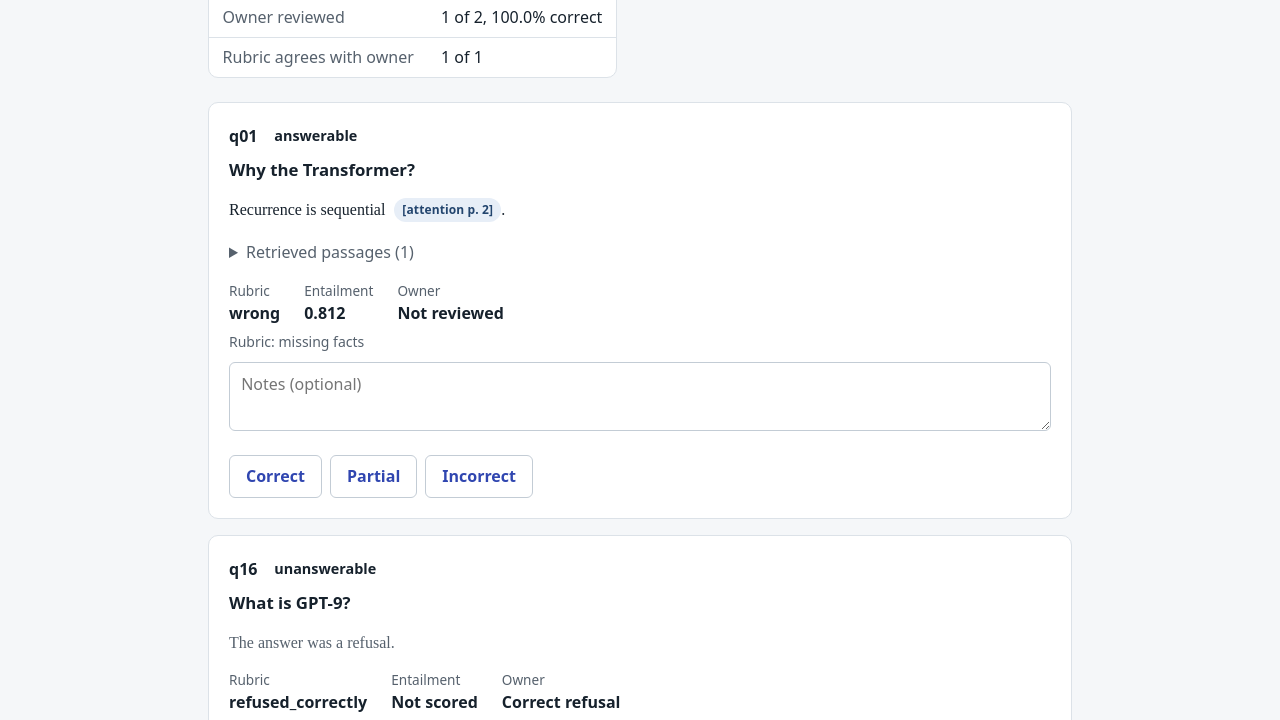
Test case: one click records the owner's grade with notes
This screenshot has width=1280, height=720.
(page scrolled)
Type "facts are there" into the text box named "Notes for q01" at point(640, 397), box x1=229 y1=362 x2=1051 y2=431
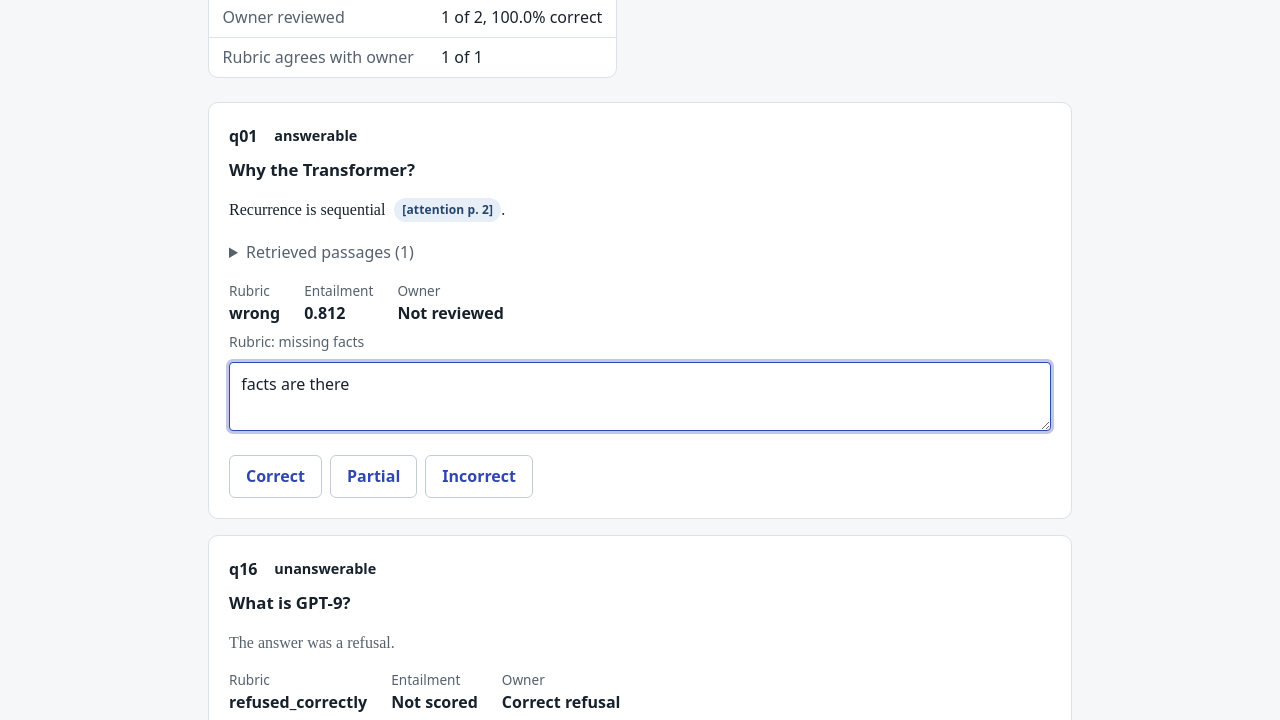
Click the button "Correct" at point(275, 477), box x1=229 y1=455 x2=322 y2=498
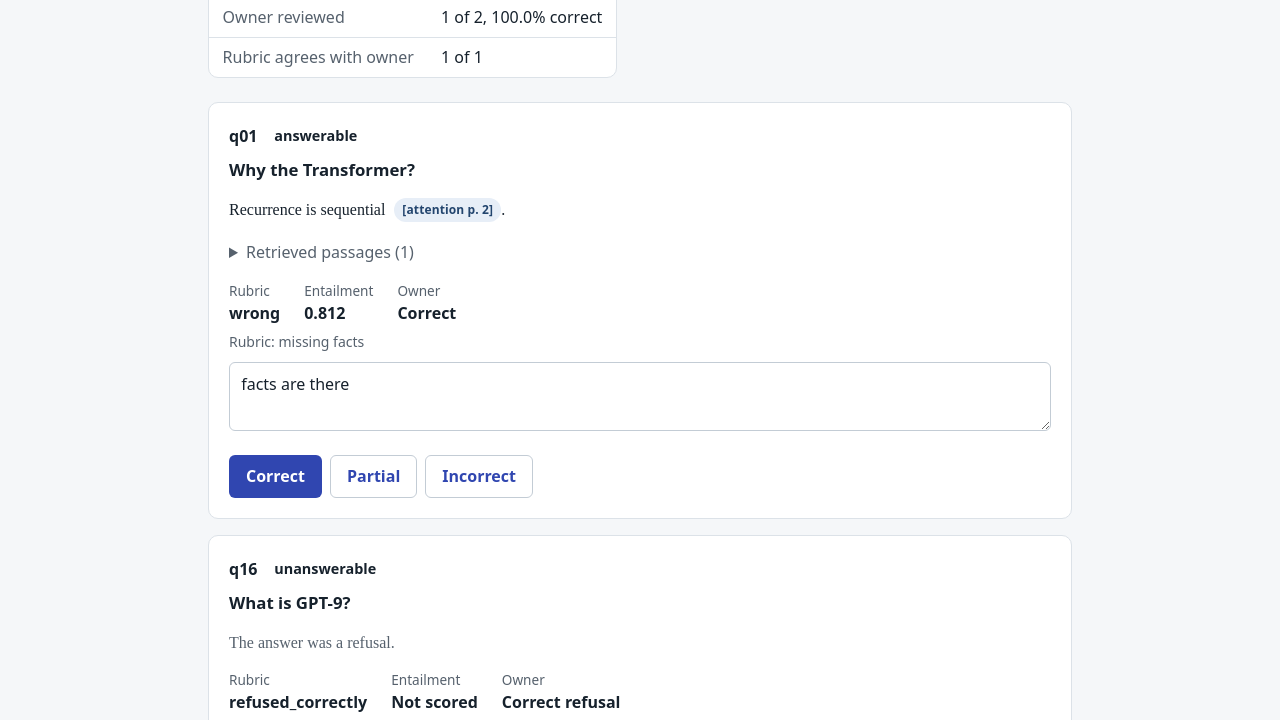
expect the text "Correct" is shown: met, box x1=397 y1=302 x2=456 y2=324
